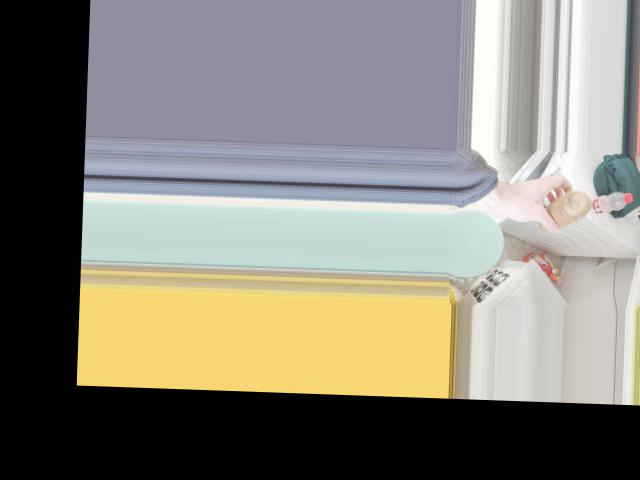sweet_potato: (532, 187, 588, 236)
